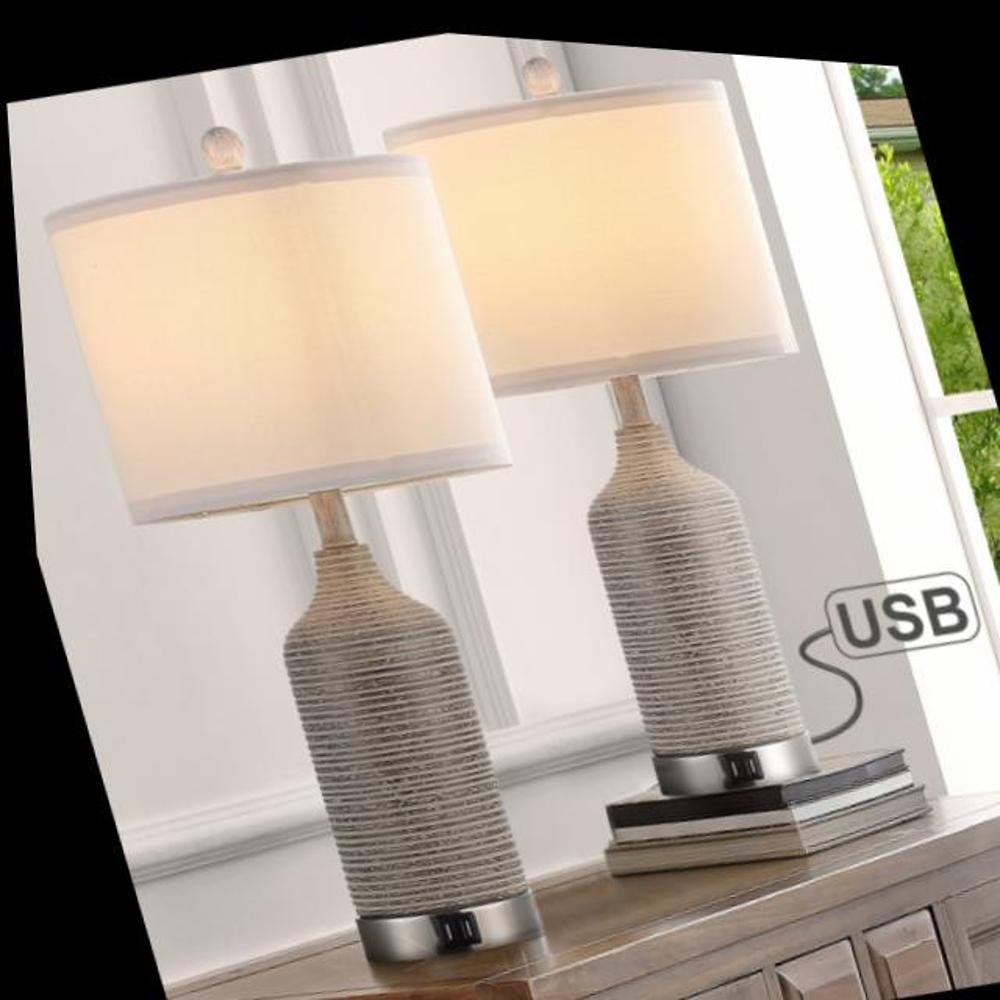shelf: (3, 48, 650, 1000), (355, 21, 972, 895)
